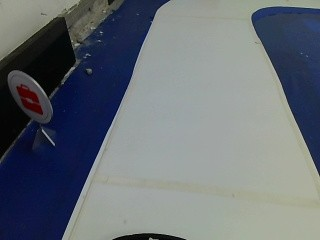company: (6, 69, 54, 122)
